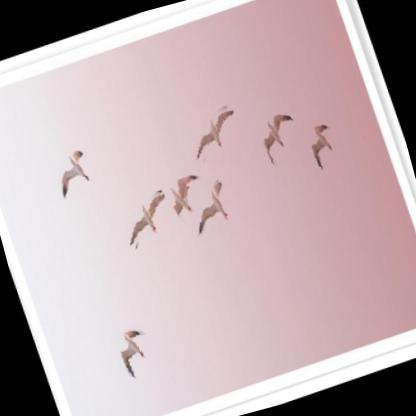bird: (181, 96, 251, 171), (110, 183, 182, 254), (179, 175, 238, 239), (253, 106, 309, 170), (109, 320, 162, 384), (160, 168, 215, 228), (46, 144, 99, 200), (300, 114, 346, 174)
